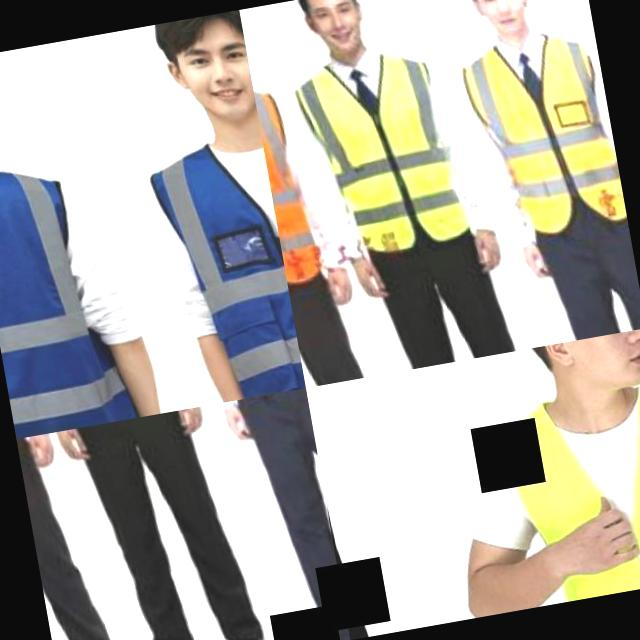vest: (148, 112, 306, 406), (0, 125, 143, 438), (452, 7, 628, 245), (290, 29, 468, 263), (484, 358, 640, 609), (250, 63, 324, 296)
